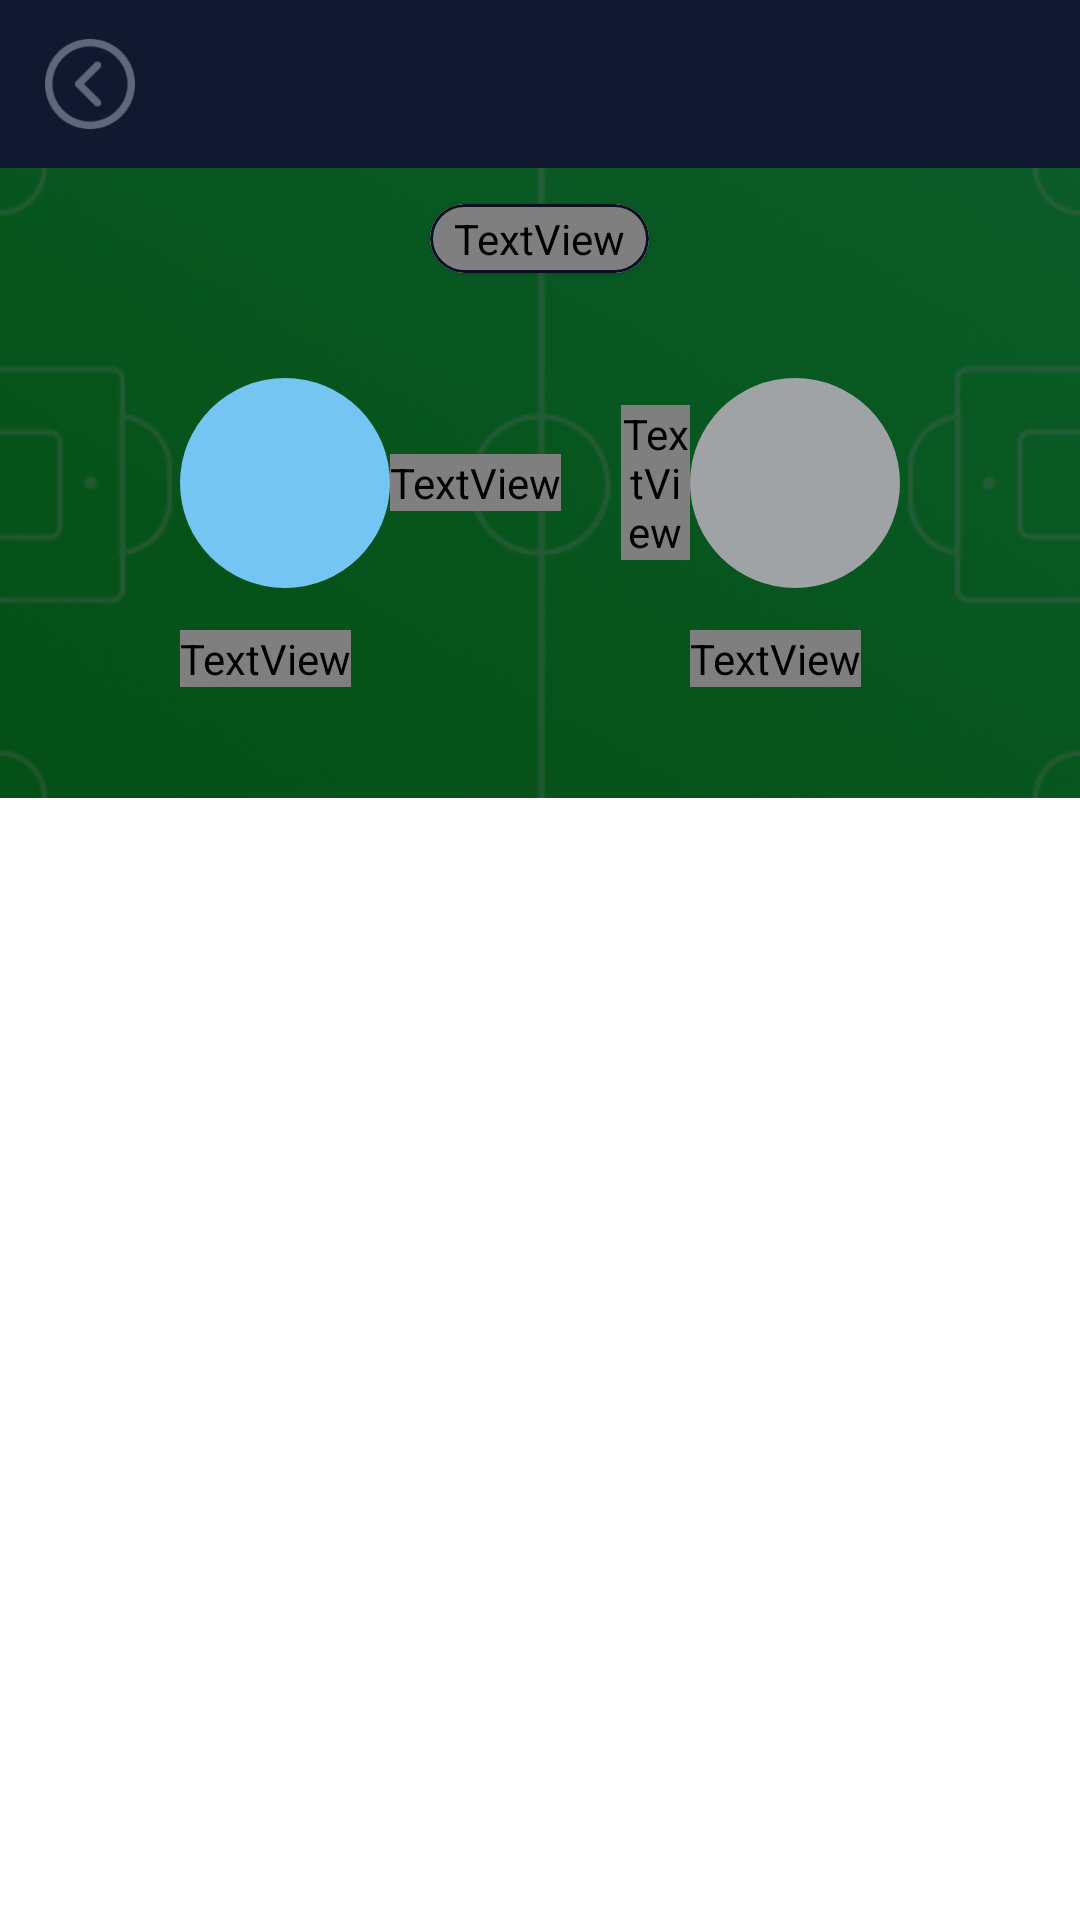

Named icons in this screenshot (1080px x 1920px) and their centers, [x,y]:
back: [90,84]
